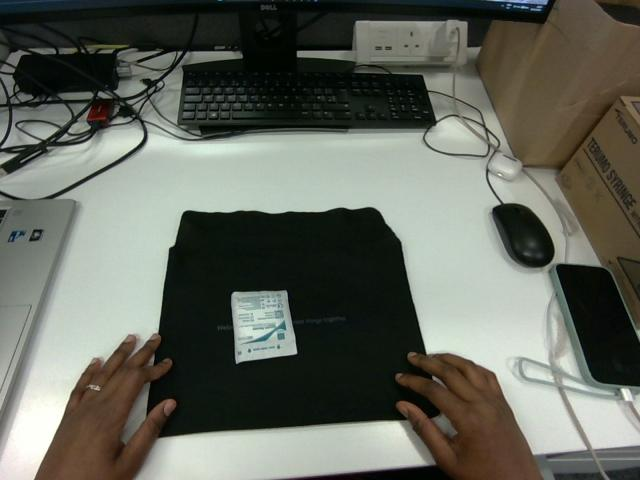gauze: (231, 290, 296, 363)
